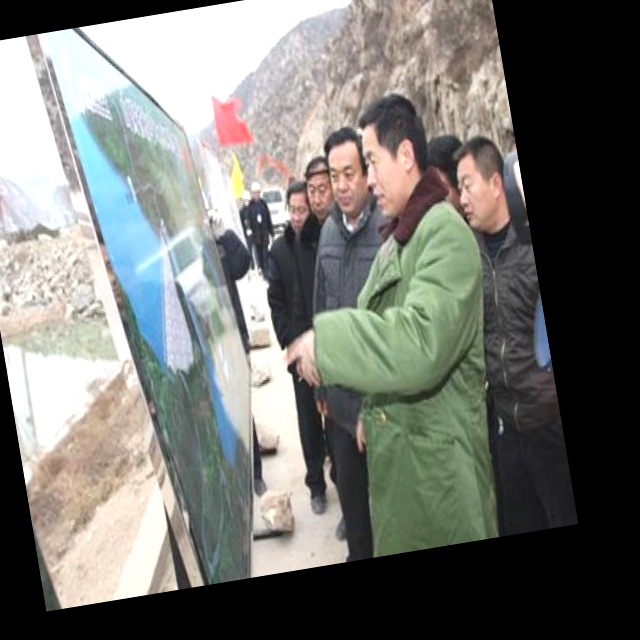Sin_Casco_Mascarrilla: (353, 85, 441, 224), (451, 133, 514, 239), (420, 125, 477, 217), (321, 126, 374, 218), (300, 152, 336, 221), (282, 176, 317, 230)
